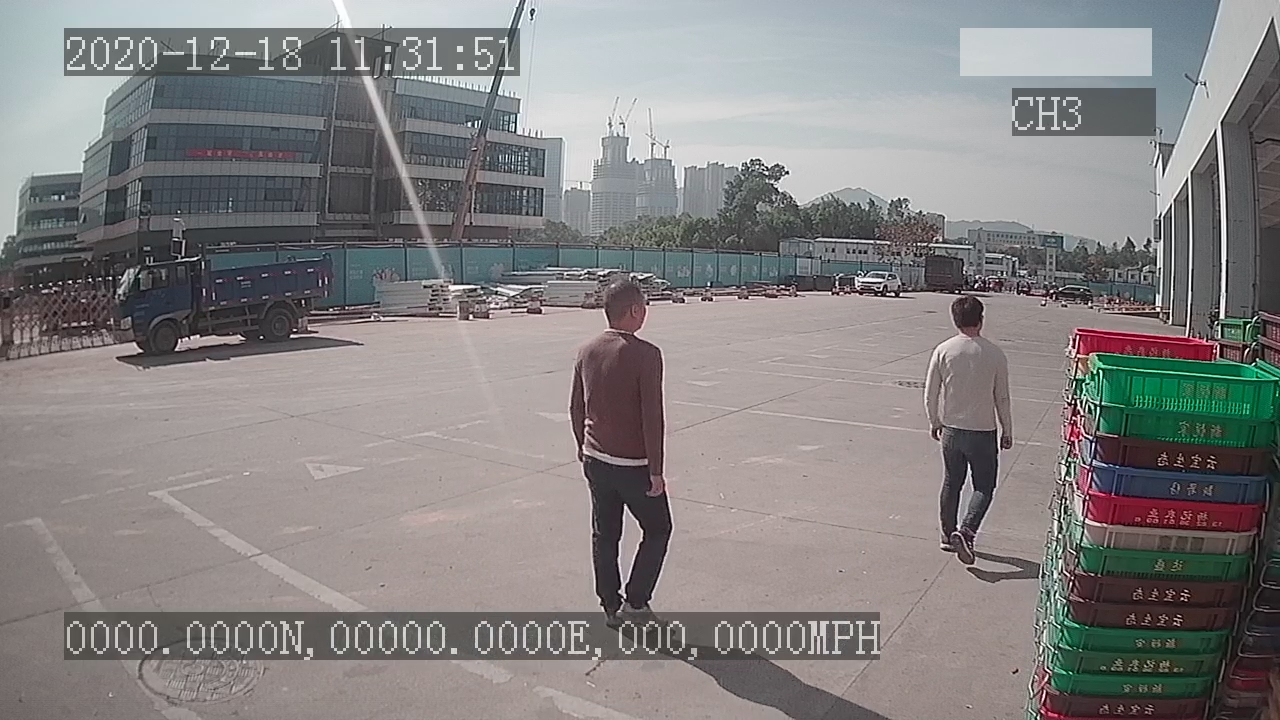person: (922, 293, 1015, 564)
